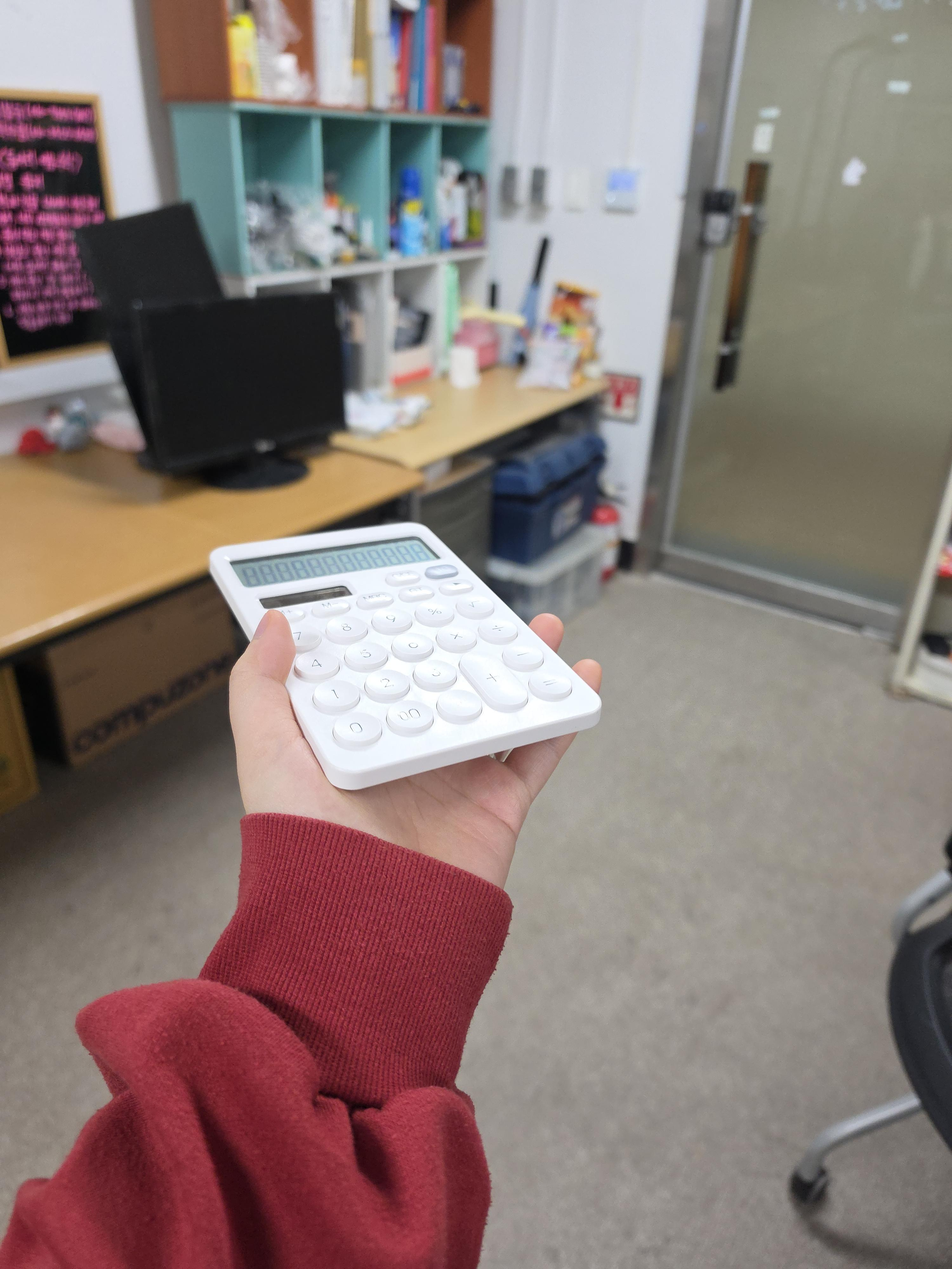calculator: (209, 522, 602, 790)
